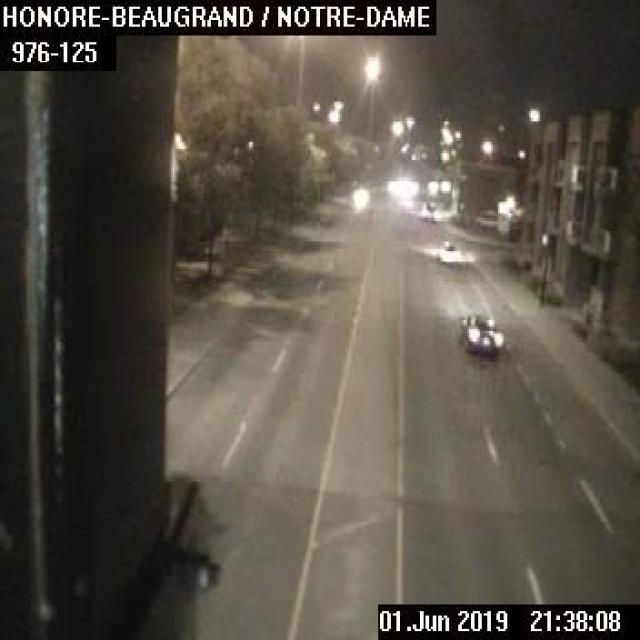vehicle: (459, 312, 502, 355), (437, 240, 460, 262), (419, 200, 437, 222)
